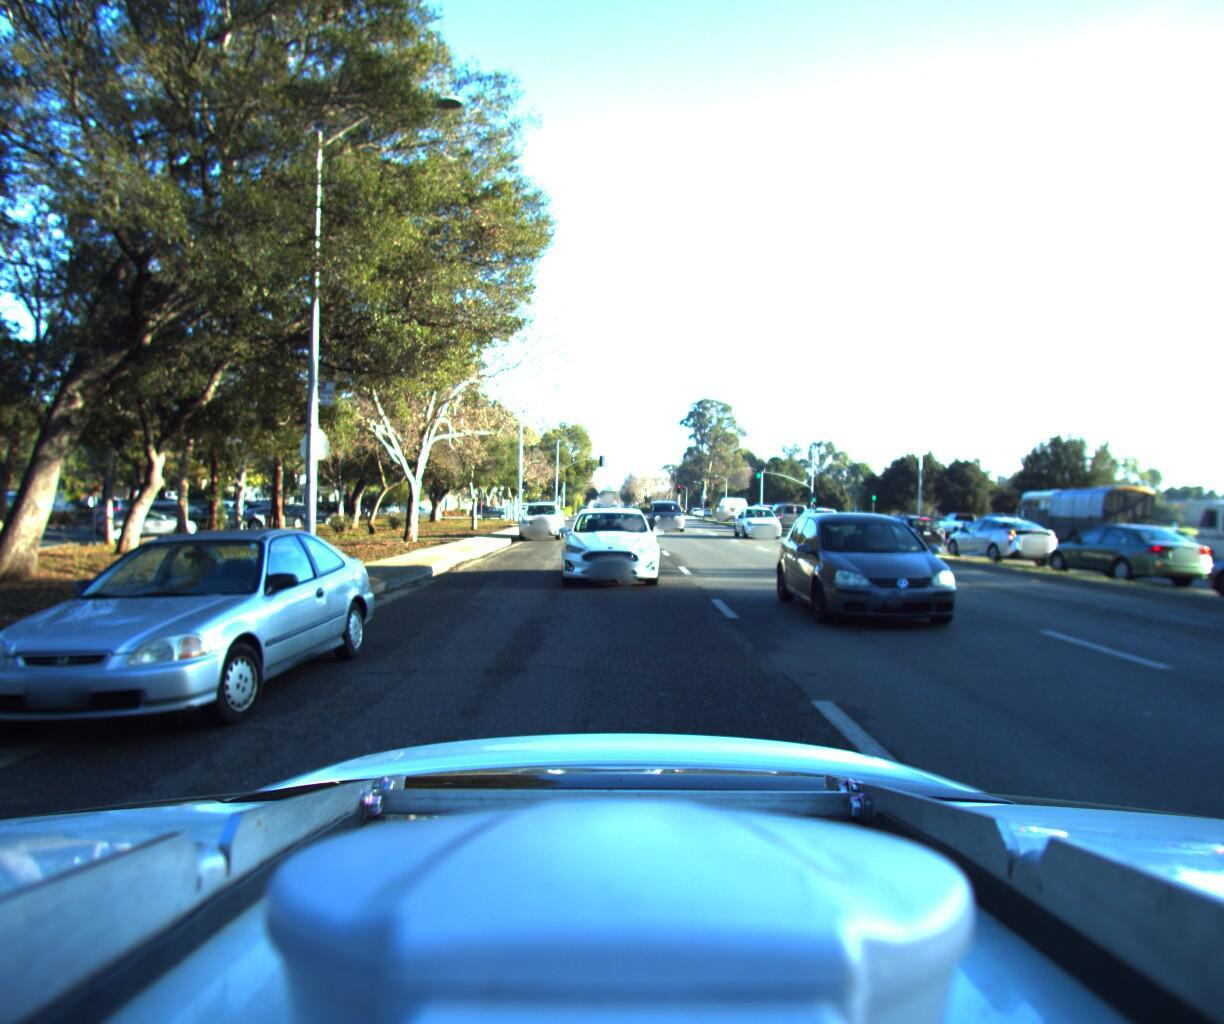bus: (1009, 476, 1162, 553)
car: (0, 468, 392, 777), (790, 504, 1040, 654), (1032, 513, 1224, 584), (552, 502, 659, 588), (936, 508, 1065, 561), (864, 505, 950, 546), (1188, 523, 1224, 619), (1120, 519, 1206, 555), (832, 504, 898, 538), (516, 491, 565, 536), (737, 497, 791, 534), (929, 504, 989, 535), (790, 498, 845, 530), (764, 494, 810, 525), (646, 495, 688, 527)
other_vehicle: (1183, 481, 1224, 576), (714, 489, 747, 516)
